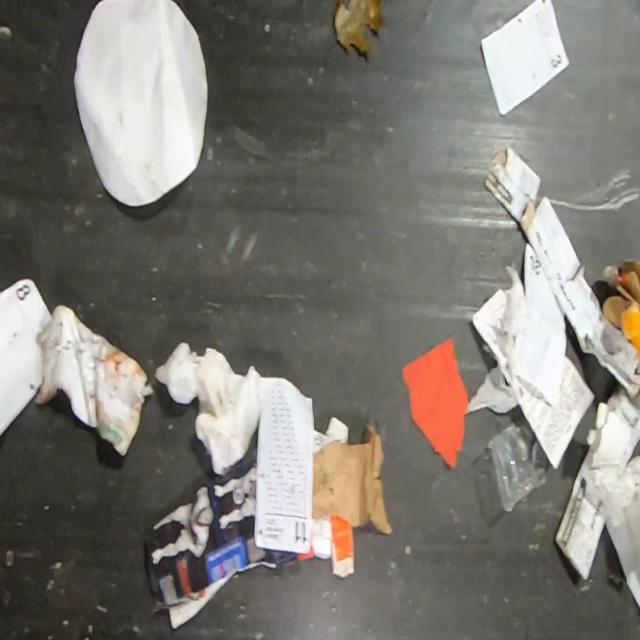cardboard: (311, 420, 392, 533), (599, 259, 640, 352)
rigid_plastic: (488, 413, 546, 511)
